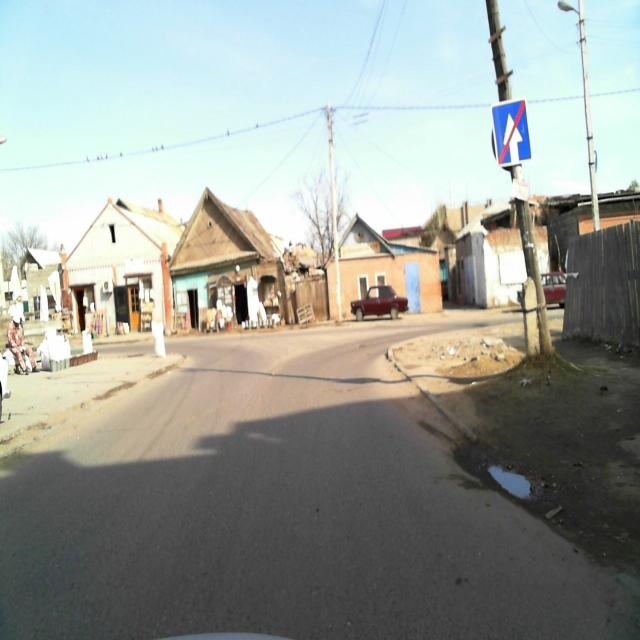road sign: (492, 100, 530, 168)
